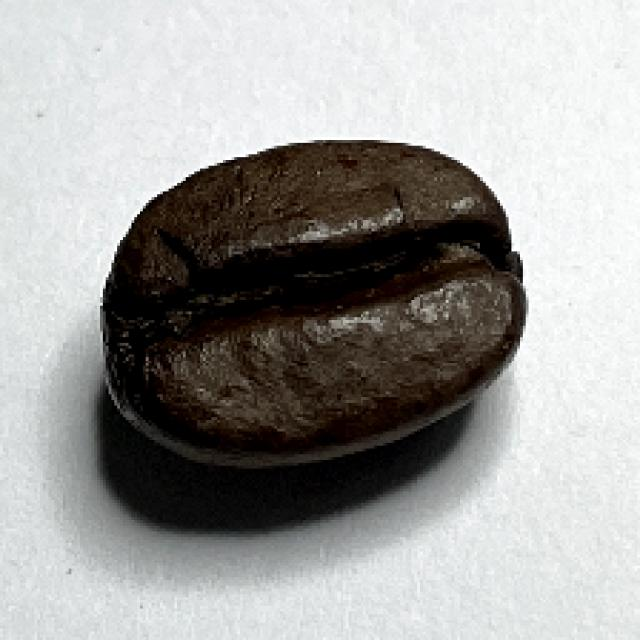bean: (96, 139, 529, 473)
